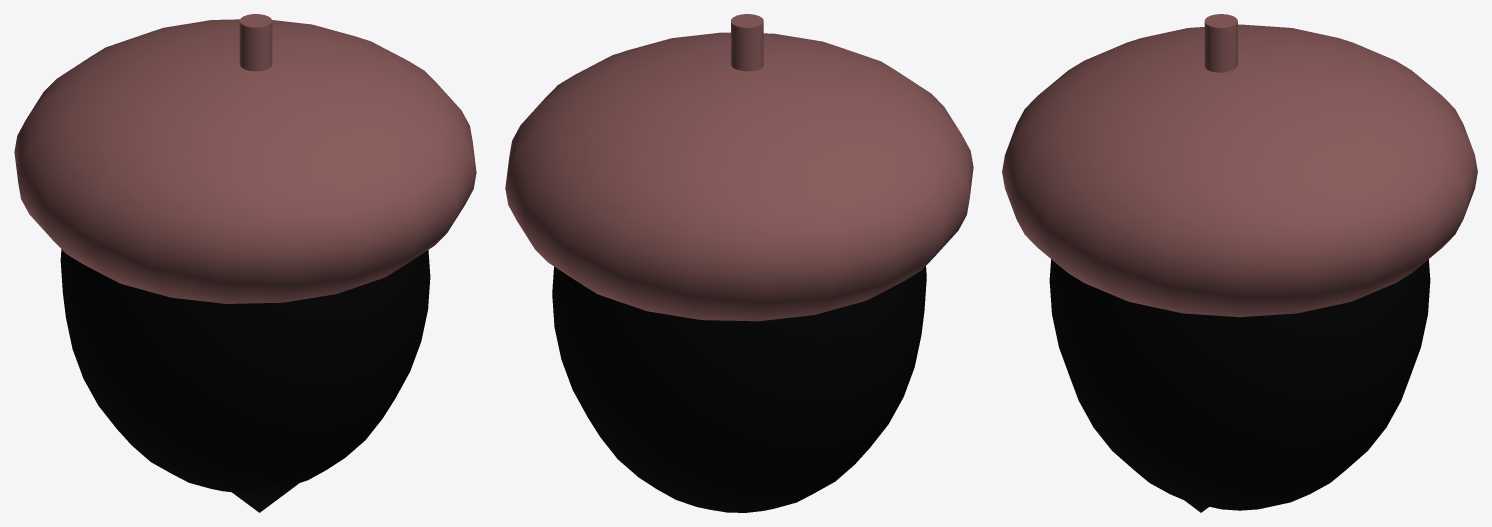
Rendered from acorn.fbx.
The picture shows the model from 3 angles, left to right: view 1: azimuth 30°, elevation 25°; view 2: azimuth 150°, elevation 25°; view 3: azimuth 270°, elevation 25°; orthographic projection. The views are drawn at different scales.
Visible parts, largest first — view 1: pSphere2, pSphere1, pCylinder1, pCone1; view 2: pSphere2, pSphere1, pCylinder1; view 3: pSphere2, pSphere1, pCylinder1.
Part boxes in pixels (x1,y1,x2,y2): pSphere2: (14,19,476,303); pSphere1: (60,249,430,492); pCylinder1: (239,14,272,71); pCone1: (232,482,299,512); pSphere2: (505,32,973,321); pSphere1: (552,266,926,512); pCylinder1: (731,14,763,71); pSphere2: (1002,24,1477,317); pSphere1: (1049,259,1430,510); pCylinder1: (1204,14,1237,72).
Size of the model in its own units: 7.95 by 9.12 by 7.95.
